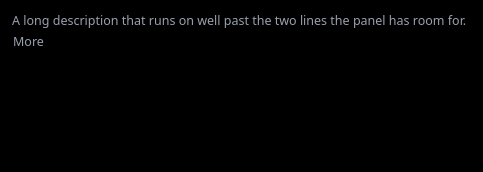
Scenario: Description › clamps a longer one, with More and Less
Later steps or results of the test are not shown.
Click the button "More" at (28, 41), box [12,30,45,52]
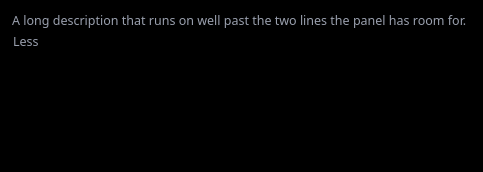
Expected: the button "Less" is expanded, [12,30,40,52]
